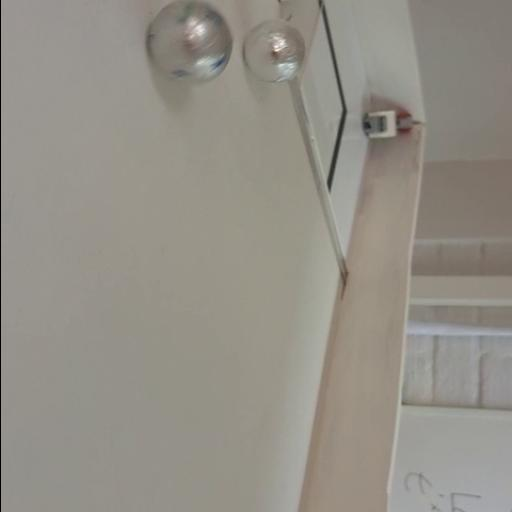alive: (146, 2, 232, 86), (238, 17, 304, 85)
